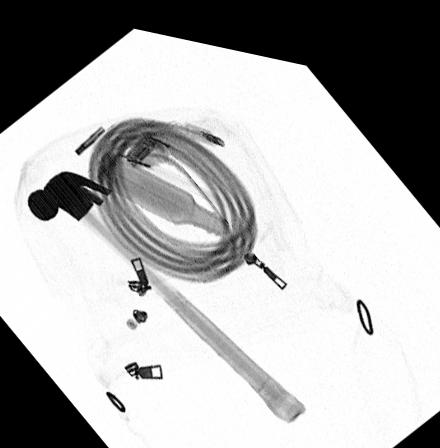Hammer: (25, 169, 305, 409)
